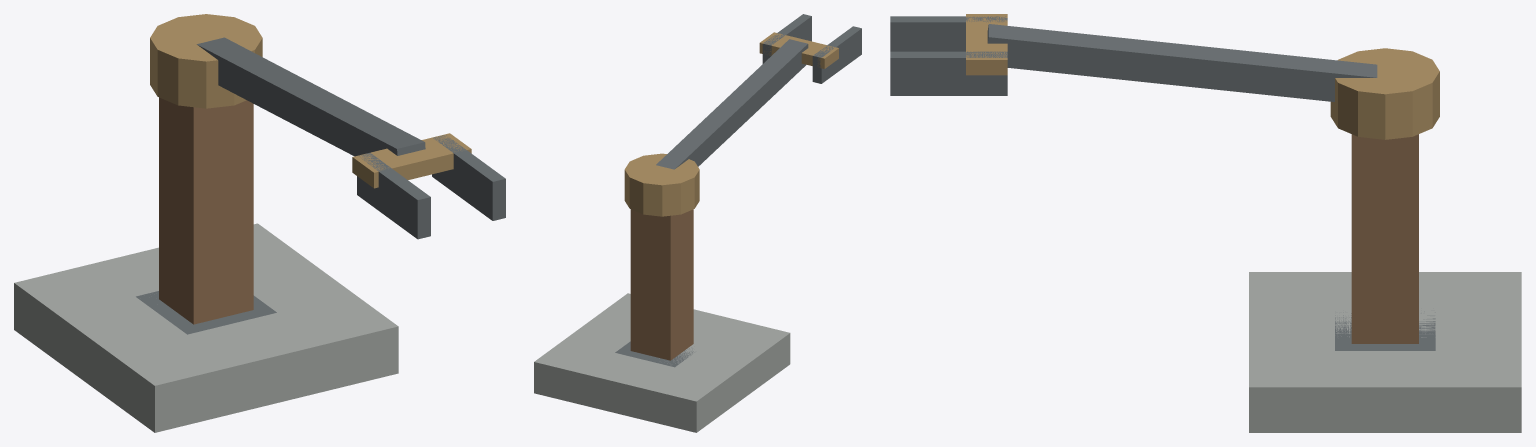
File: vf_cooking_tender.glb
3 views of the same model, side by side, from view 1: azimuth 30°, elevation 25°; view 2: azimuth 150°, elevation 25°; view 3: azimuth 270°, elevation 25° (orthographic). The views are drawn at different scales.
Parts seen in each view (by area): view 1: Static_Stone, Static_Oak, Arm_Yaw_Iron, Arm_Yaw_Bronze, Static_Iron; view 2: Static_Stone, Static_Oak, Arm_Yaw_Iron, Arm_Yaw_Bronze, Static_Iron; view 3: Static_Stone, Arm_Yaw_Iron, Static_Oak, Arm_Yaw_Bronze, Static_Iron.
Boxes of the visible parts, bbox=[...] form: Static_Stone: bbox=[14, 223, 398, 432]; Static_Oak: bbox=[159, 97, 253, 324]; Arm_Yaw_Iron: bbox=[197, 37, 505, 239]; Arm_Yaw_Bronze: bbox=[150, 14, 471, 188]; Static_Iron: bbox=[136, 291, 276, 334]; Static_Stone: bbox=[534, 293, 790, 432]; Static_Oak: bbox=[630, 209, 693, 360]; Arm_Yaw_Iron: bbox=[656, 14, 861, 169]; Arm_Yaw_Bronze: bbox=[624, 32, 838, 216]; Static_Iron: bbox=[615, 341, 694, 367]; Static_Stone: bbox=[1249, 272, 1521, 432]; Arm_Yaw_Iron: bbox=[890, 16, 1377, 101]; Static_Oak: bbox=[1351, 134, 1418, 343]; Arm_Yaw_Bronze: bbox=[966, 14, 1439, 139]; Static_Iron: bbox=[1335, 311, 1435, 350].
Bounding box in the file's own units: 0.65 × 0.9073 × 1.5.
